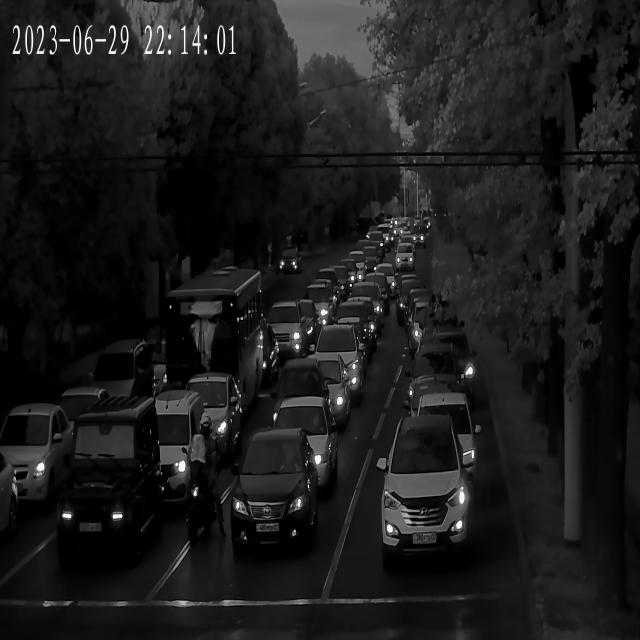Bus: (58, 397, 162, 572), (162, 272, 262, 443)
Car: (380, 412, 477, 566), (221, 430, 317, 553), (251, 397, 337, 495), (160, 372, 242, 469), (0, 401, 77, 503), (261, 359, 343, 443), (91, 336, 163, 420), (402, 399, 476, 473), (417, 332, 474, 413), (314, 335, 368, 408), (405, 370, 468, 424), (262, 300, 315, 356), (412, 303, 455, 369), (330, 319, 372, 366), (397, 280, 432, 330), (341, 303, 379, 349), (351, 288, 384, 336), (0, 450, 16, 545), (302, 290, 332, 338), (312, 272, 338, 310), (367, 275, 391, 316), (326, 261, 350, 300), (339, 259, 362, 297), (366, 227, 388, 260), (374, 264, 396, 295), (394, 242, 416, 272), (351, 246, 370, 277), (346, 251, 364, 283)
